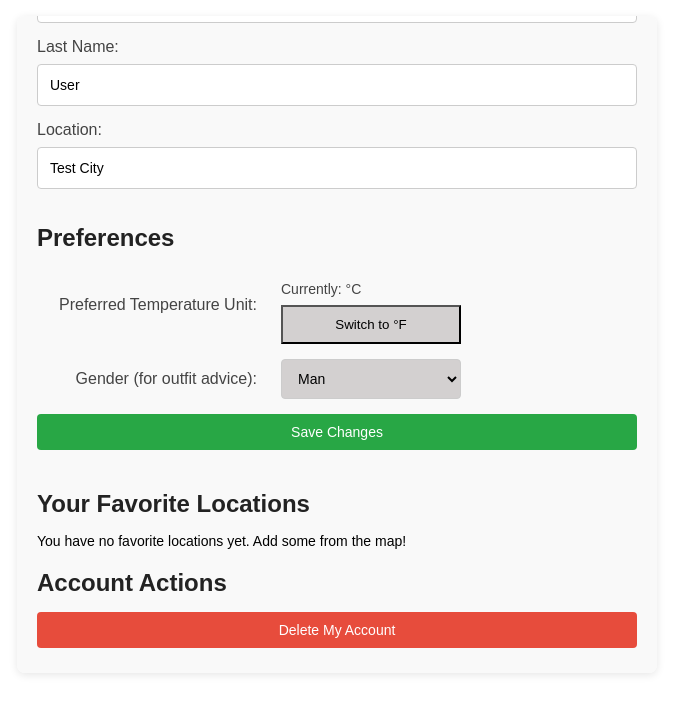
UserProfileDisplay Component › parses and displays email error on save failure
(page scrolled)
Click the button "Save Changes" at (337, 432), box [37,414,637,450]
(page scrolled)
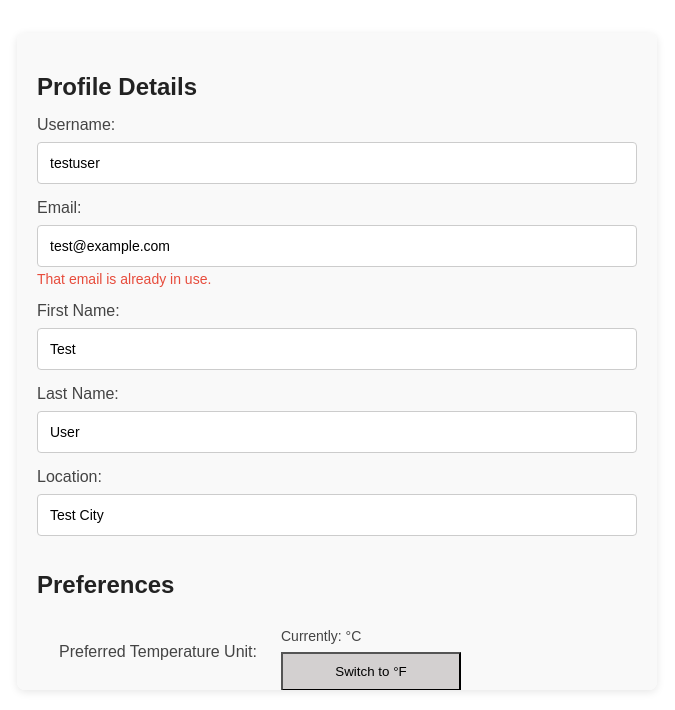
expect the text "That email is already in use." is shown: met, box [37,271,211,287]
